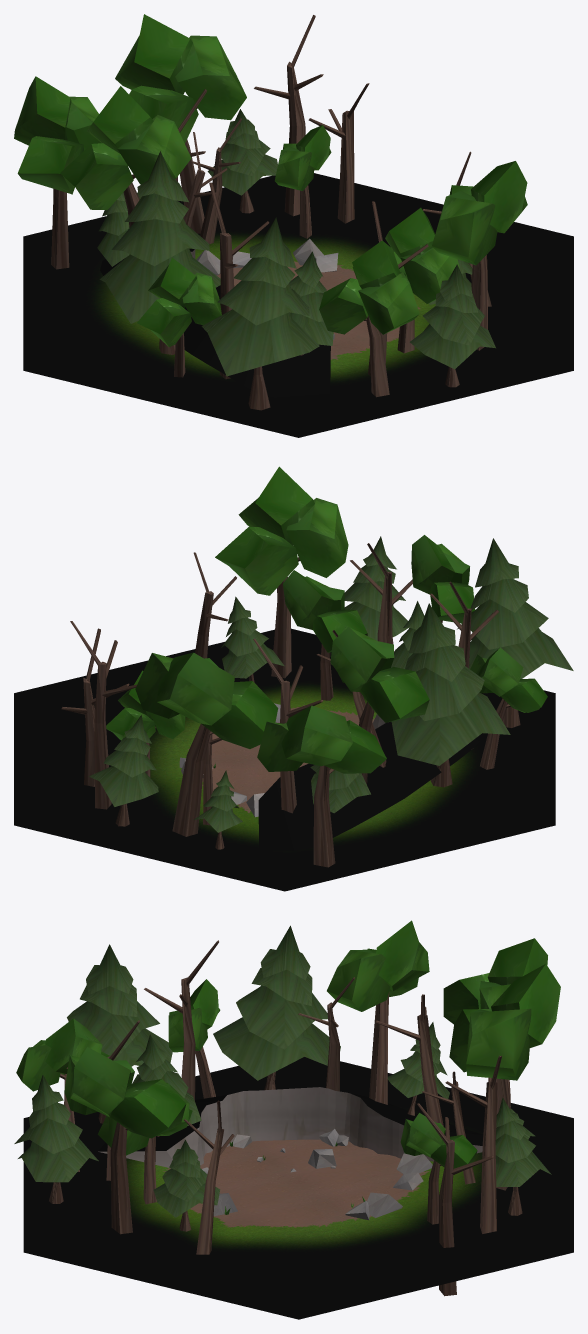
Rendered from hubenviro.glb.
The picture shows the model from 3 angles, top to bottom: view 1: azimuth 30°, elevation 25°; view 2: azimuth 150°, elevation 25°; view 3: azimuth 270°, elevation 25°; orthographic projection.
Visible parts, largest first — view 1: polySurface187 Ground_geo, Tree2_geo Tree2_geo1 Tree2_geo2 Tree2_geo3 Tree2_geo4 Tree2. (×6), Tree3_geo Tree3_geo1 Tree3_geo2 Tree3_geo3 Tree3_geo4 Tree3. (×5), Tree2_geo Tree2_geo1 Tree2_geo2 Tree2_geo3 Tree2_geo4 Tree2_, Tree1_geo Tree1_geo1 Tree1_geo2 Tree1_geo3 Tree1_geo4 Tree1. (×4), Tree2_geo Tree2_geo1 Tree2_geo2 Tree2_geo3 Tree2_geo4 Tree2, polySurface152 grass_geo scene, Tree3_geo Tree3_geo1 Tree3_geo2 Tree3_geo3 Tree3_geo4 Tree3, Tree1_geo Tree1_geo1 Tree1_geo2 Tree1_geo3 Tree1_geo4 Tree1_; view 2: polySurface187 Ground_geo, Tree2_geo Tree2_geo1 Tree2_geo2 Tree2_geo3 Tree2_geo4 Tree2. (×6), Tree3_geo Tree3_geo1 Tree3_geo2 Tree3_geo3 Tree3_geo4 Tree3. (×6), polySurface152 grass_geo scene, Tree1_geo Tree1_geo1 Tree1_geo2 Tree1_geo3 Tree1_geo4 Tree1. (×5), Tree2_geo Tree2_geo1 Tree2_geo2 Tree2_geo3 Tree2_geo4 Tree2_, Tree2_geo Tree2_geo1 Tree2_geo2 Tree2_geo3 Tree2_geo4 Tree2, Tree3_geo Tree3_geo1 Tree3_geo2 Tree3_geo3 Tree3_geo4 Tree3_, Tree1_geo Tree1_geo1 Tree1_geo2 Tree1_geo3 Tree1_geo4 Tree1_, Tree1_geo Tree1_geo1 Tree1_geo2 Tree1_geo3 Tree1_geo4 Tree1, Tree3_geo Tree3_geo1 Tree3_geo2 Tree3_geo3 Tree3_geo4 Tree3; view 3: polySurface187 Ground_geo, Tree2_geo Tree2_geo1 Tree2_geo2 Tree2_geo3 Tree2_geo4 Tree2. (×6), Tree3_geo Tree3_geo1 Tree3_geo2 Tree3_geo3 Tree3_geo4 Tree3. (×5), scene cliff_geo, Tree1_geo Tree1_geo1 Tree1_geo2 Tree1_geo3 Tree1_geo4 Tree1. (×5), Tree2_geo Tree2_geo1 Tree2_geo2 Tree2_geo3 Tree2_geo4 Tree2_, Tree3_geo Tree3_geo1 Tree3_geo2 Tree3_geo3 Tree3_geo4 Tree3_, Tree2_geo Tree2_geo1 Tree2_geo2 Tree2_geo3 Tree2_geo4 Tree2, Tree1_geo Tree1_geo1 Tree1_geo2 Tree1_geo3 Tree1_geo4 Tree1_, polySurface152 grass_geo scene, Tree1_geo Tree1_geo1 Tree1_geo2 Tree1_geo3 Tree1_geo4 Tree1, Tree3_geo Tree3_geo1 Tree3_geo2 Tree3_geo3 Tree3_geo4 Tree3 (+1 smaller).
Boxes of the visible parts, left/top/right/bottom form: polySurface187 Ground_geo: left=23, top=173, right=573, bottom=437; Tree2_geo Tree2_geo1 Tree2_geo2 Tree2_geo3 Tree2_geo4 Tree2. (×6): left=14, top=14, right=527, bottom=353; Tree3_geo Tree3_geo1 Tree3_geo2 Tree3_geo3 Tree3_geo4 Tree3. (×5): left=97, top=109, right=495, bottom=410; Tree2_geo Tree2_geo1 Tree2_geo2 Tree2_geo3 Tree2_geo4 Tree2_: left=319, top=240, right=419, bottom=397; Tree1_geo Tree1_geo1 Tree1_geo2 Tree1_geo3 Tree1_geo4 Tree1. (×4): left=183, top=15, right=323, bottom=379; Tree2_geo Tree2_geo1 Tree2_geo2 Tree2_geo3 Tree2_geo4 Tree2: left=137, top=257, right=221, bottom=377; polySurface152 grass_geo scene: left=100, top=248, right=330, bottom=397; Tree3_geo Tree3_geo1 Tree3_geo2 Tree3_geo3 Tree3_geo4 Tree3: left=289, top=251, right=333, bottom=355; Tree1_geo Tree1_geo1 Tree1_geo2 Tree1_geo3 Tree1_geo4 Tree1_: left=308, top=83, right=369, bottom=223; polySurface187 Ground_geo: left=14, top=628, right=555, bottom=891; Tree2_geo Tree2_geo1 Tree2_geo2 Tree2_geo3 Tree2_geo4 Tree2. (×6): left=106, top=466, right=429, bottom=867; Tree3_geo Tree3_geo1 Tree3_geo2 Tree3_geo3 Tree3_geo4 Tree3. (×6): left=89, top=536, right=573, bottom=849; polySurface152 grass_geo scene: left=258, top=721, right=487, bottom=850; Tree1_geo Tree1_geo1 Tree1_geo2 Tree1_geo3 Tree1_geo4 Tree1. (×5): left=70, top=543, right=498, bottom=825; Tree2_geo Tree2_geo1 Tree2_geo2 Tree2_geo3 Tree2_geo4 Tree2_: left=411, top=535, right=475, bottom=623; Tree2_geo Tree2_geo1 Tree2_geo2 Tree2_geo3 Tree2_geo4 Tree2: left=470, top=647, right=547, bottom=769; Tree3_geo Tree3_geo1 Tree3_geo2 Tree3_geo3 Tree3_geo4 Tree3_: left=221, top=596, right=284, bottom=682; Tree1_geo Tree1_geo1 Tree1_geo2 Tree1_geo3 Tree1_geo4 Tree1_: left=61, top=628, right=129, bottom=786; Tree1_geo Tree1_geo1 Tree1_geo2 Tree1_geo3 Tree1_geo4 Tree1: left=193, top=552, right=236, bottom=658; Tree3_geo Tree3_geo1 Tree3_geo2 Tree3_geo3 Tree3_geo4 Tree3: left=391, top=601, right=424, bottom=668; polySurface187 Ground_geo: left=23, top=1057, right=573, bottom=1319; Tree2_geo Tree2_geo1 Tree2_geo2 Tree2_geo3 Tree2_geo4 Tree2. (×6): left=64, top=920, right=560, bottom=1234; Tree3_geo Tree3_geo1 Tree3_geo2 Tree3_geo3 Tree3_geo4 Tree3. (×5): left=14, top=925, right=551, bottom=1215; scene cliff_geo: left=98, top=1087, right=482, bottom=1167; Tree1_geo Tree1_geo1 Tree1_geo2 Tree1_geo3 Tree1_geo4 Tree1. (×5): left=144, top=940, right=501, bottom=1233; Tree2_geo Tree2_geo1 Tree2_geo2 Tree2_geo3 Tree2_geo4 Tree2_: left=16, top=1018, right=113, bottom=1171; Tree3_geo Tree3_geo1 Tree3_geo2 Tree3_geo3 Tree3_geo4 Tree3_: left=153, top=1139, right=220, bottom=1231; Tree2_geo Tree2_geo1 Tree2_geo2 Tree2_geo3 Tree2_geo4 Tree2: left=168, top=979, right=220, bottom=1098; Tree1_geo Tree1_geo1 Tree1_geo2 Tree1_geo3 Tree1_geo4 Tree1_: left=417, top=1103, right=493, bottom=1296; polySurface152 grass_geo scene: left=98, top=1093, right=483, bottom=1151; Tree1_geo Tree1_geo1 Tree1_geo2 Tree1_geo3 Tree1_geo4 Tree1: left=184, top=1100, right=234, bottom=1254; Tree3_geo Tree3_geo1 Tree3_geo2 Tree3_geo3 Tree3_geo4 Tree3: left=131, top=1034, right=201, bottom=1136.
Size of the model in its own units: 33.19 by 14.66 by 29.25.
Materials: 7 (7 with a texture image).
